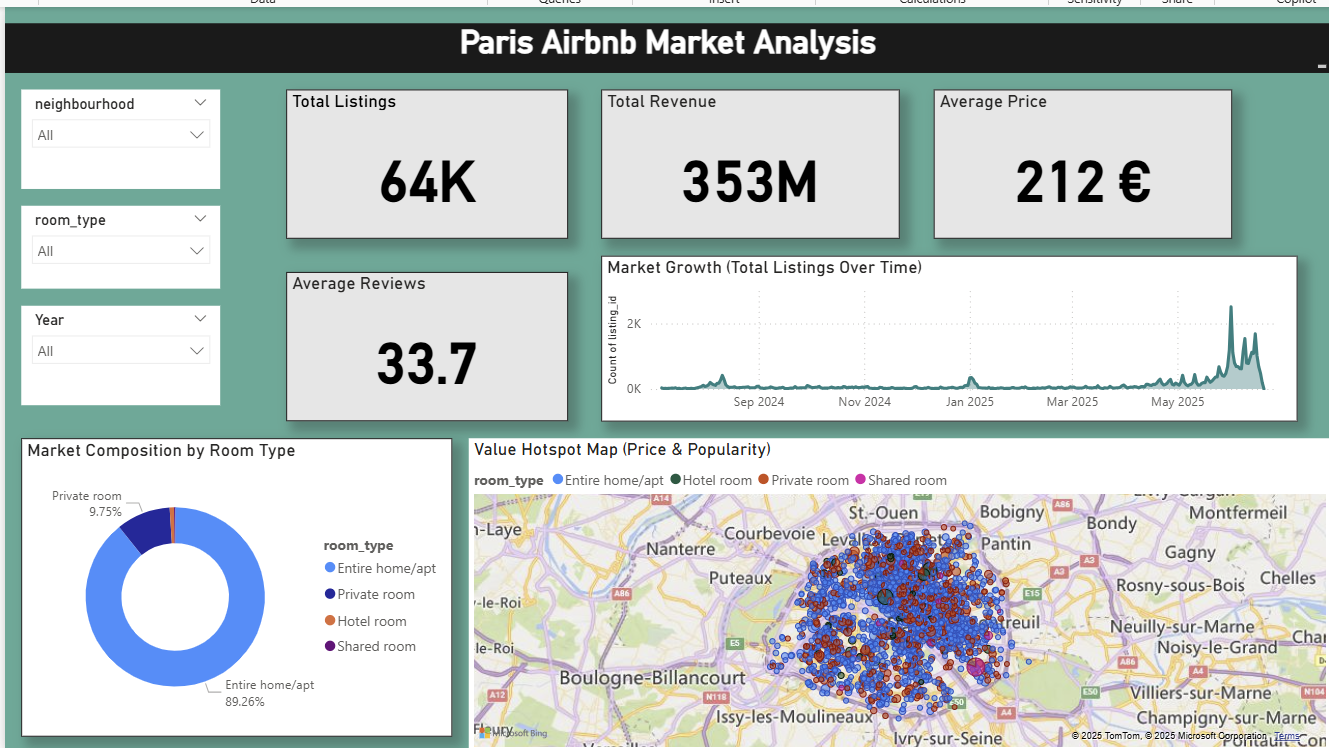

The page's visual inventory and layout, read from the dashboard file:
{"tool":"powerbi","page":{"name":"Exectuive Summary","canvas":[1280,720],"ordinal":0},"visuals":[{"type":"textbox","title":"Paris Airbnb Market Analysis","box":[0,16,1280,48],"z":0},{"type":"slicer","fields":{"Values":["Paris_Cleaned_final_DS.neighbourhood"]},"box":[16,80,192,96],"z":1000},{"type":"slicer","fields":{"Values":["Paris_Cleaned_final_DS.room_type"]},"box":[16,192,192,80],"z":2000},{"type":"slicer","fields":{"Values":["Paris_Cleaned_final_DS.date.Variation.Date Hierarchy.Year"]},"box":[16,288,192,96],"z":3000},{"type":"card","title":"Total Listings","fields":{"Values":["Paris_Cleaned_final_DS.Total Listings"]},"box":[272,80,272,144],"z":4000},{"type":"card","title":"Total Revenue","fields":{"Values":["Paris_Cleaned_final_DS.Total Revenue"]},"box":[576,80,288,144],"z":5000},{"type":"card","title":"Average Price","fields":{"Values":["Paris_Cleaned_final_DS.Avg Price"]},"box":[896,80,288,144],"z":6000},{"type":"card","title":"Average Reviews","fields":{"Values":["Paris_Cleaned_final_DS.Avg Reviews"]},"box":[272,256,272,144],"z":7000},{"type":"donutChart","title":"Market Composition by Room Type","fields":{"Category":["Paris_Cleaned_final_DS.room_type"],"Y":["Count(Paris_Cleaned_final_DS.listing_id)"]},"box":[16,416,416,288],"z":8000},{"type":"areaChart","title":"Market Growth (Total Listings Over Time)","fields":{"Category":["Paris_Cleaned_final_DS.date"],"Y":["CountNonNull(Paris_Cleaned_final_DS.listing_id)"]},"box":[576,240,672,160],"z":9000},{"type":"map","title":"Value Hotspot Map (Price & Popularity)","fields":{"Y":["Paris_Cleaned_final_DS.latitude"],"X":["Paris_Cleaned_final_DS.longitude"],"Size":["Sum(Paris_Cleaned_final_DS.TotalReviews)"],"Series":["Paris_Cleaned_final_DS.room_type"]},"box":[448,416,832,304],"z":10000}]}

Visuals, with their boxes in screenshot pixels (x1, y1, x2, y2):
"Paris Airbnb Market Analysis" textbox: (3, 23, 1314, 72)
slicer - Paris_Cleaned_final_DS.neighbourhood: (20, 89, 216, 187)
slicer - Paris_Cleaned_final_DS.room_type: (20, 204, 216, 285)
slicer - Paris_Cleaned_final_DS.date.Variation.Date Hierarchy.Year: (20, 302, 216, 400)
"Total Listings" card: (282, 89, 560, 236)
"Total Revenue" card: (593, 89, 888, 236)
"Average Price" card: (921, 89, 1216, 236)
"Average Reviews" card: (282, 269, 560, 416)
"Market Composition by Room Type" donutChart: (20, 433, 446, 728)
"Market Growth (Total Listings Over Time)" areaChart: (593, 253, 1281, 416)
"Value Hotspot Map (Price & Popularity)" map: (462, 433, 1314, 744)
